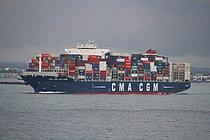Ship: (19, 35, 196, 99)
